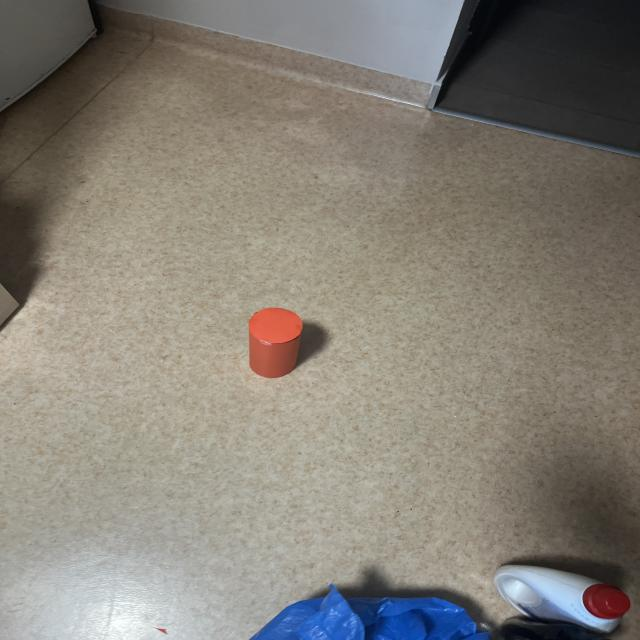przeszkoda: (249, 308, 302, 378)
